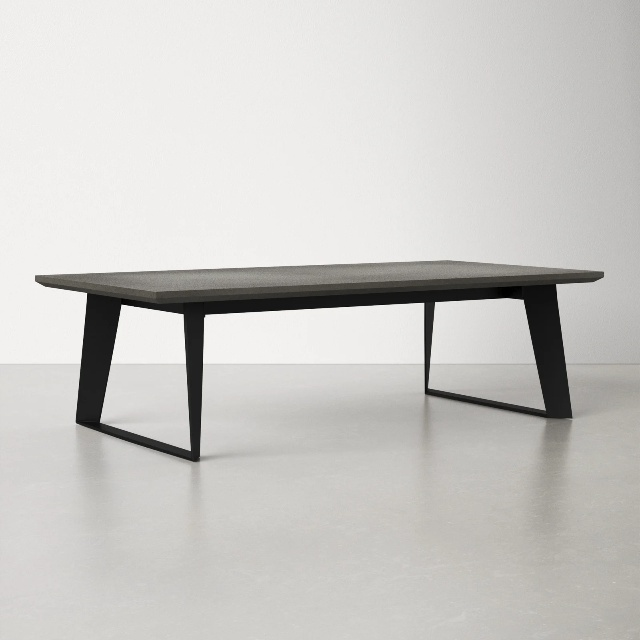obstacle: (36, 261, 603, 461)
